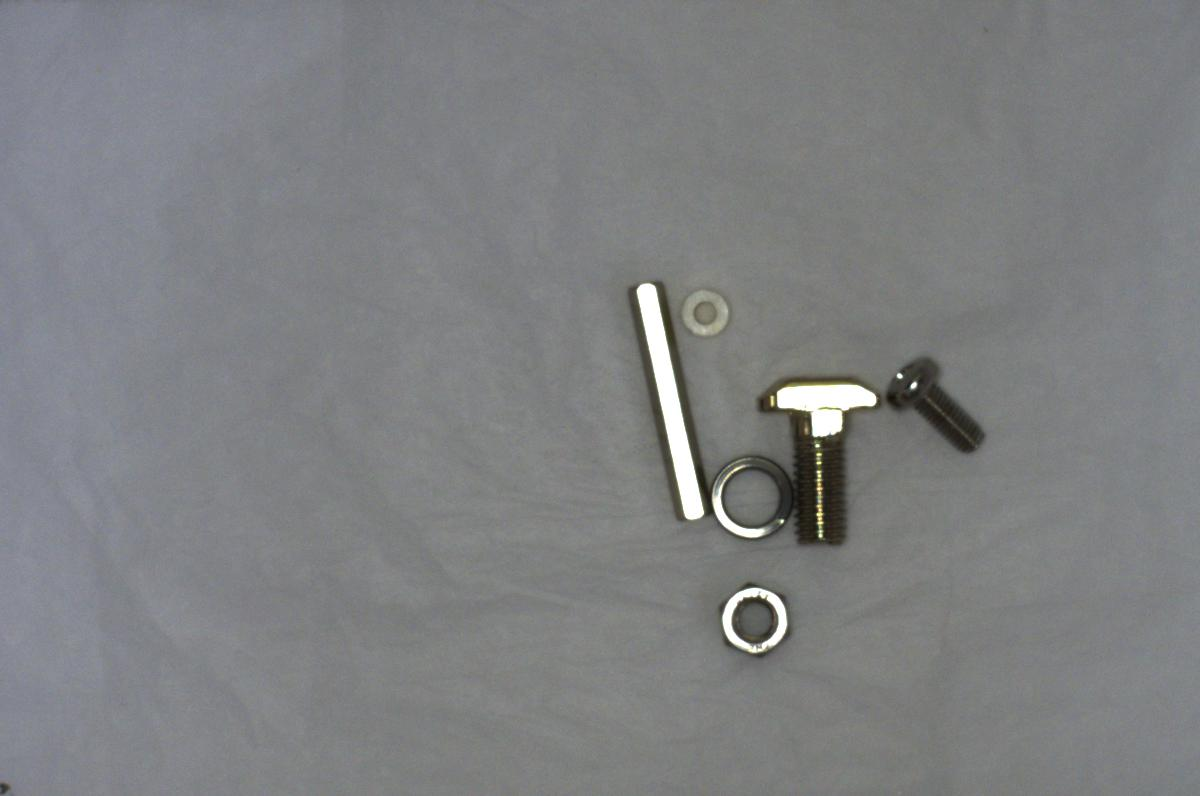Double hexagonal column: (623, 271, 724, 530)
Hexagon nut: (710, 576, 800, 668)
Plastic cushion pillar: (667, 277, 737, 351)
Round head screw: (876, 345, 993, 464)
Spring washer: (707, 444, 802, 549)
T-shaped screw: (753, 363, 888, 556)
